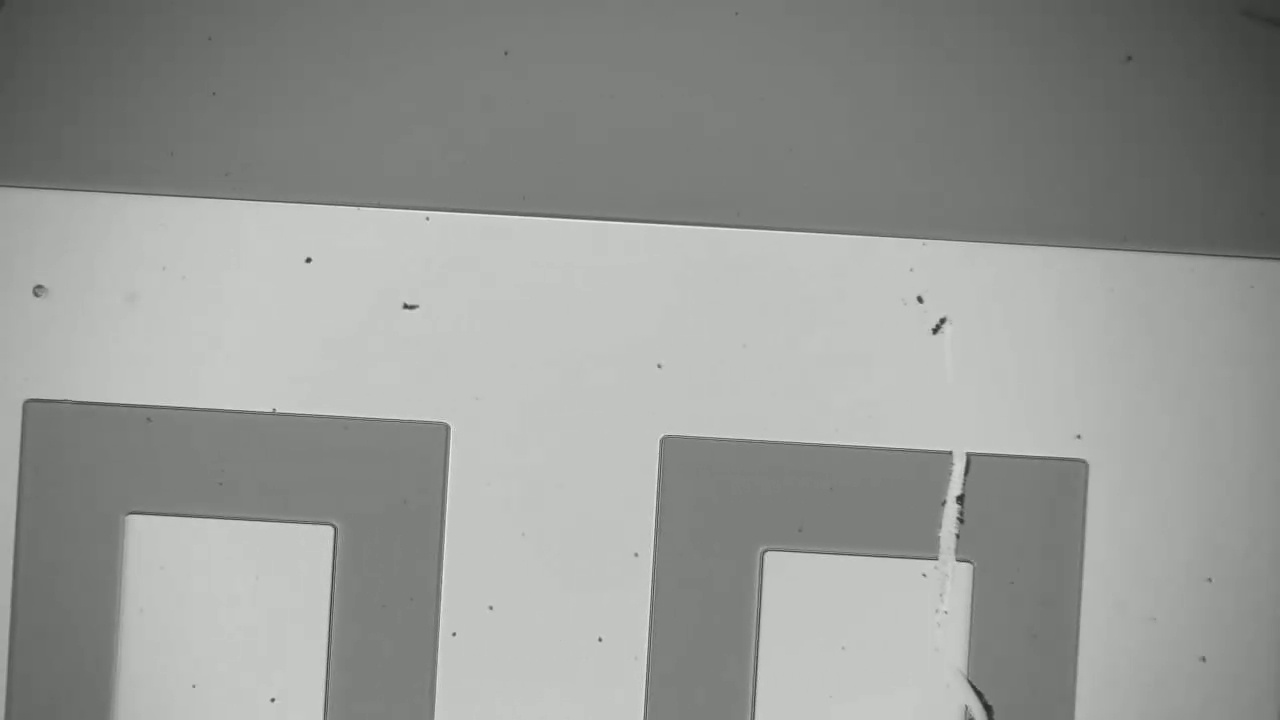Short_circuit: (909, 433, 979, 584)
